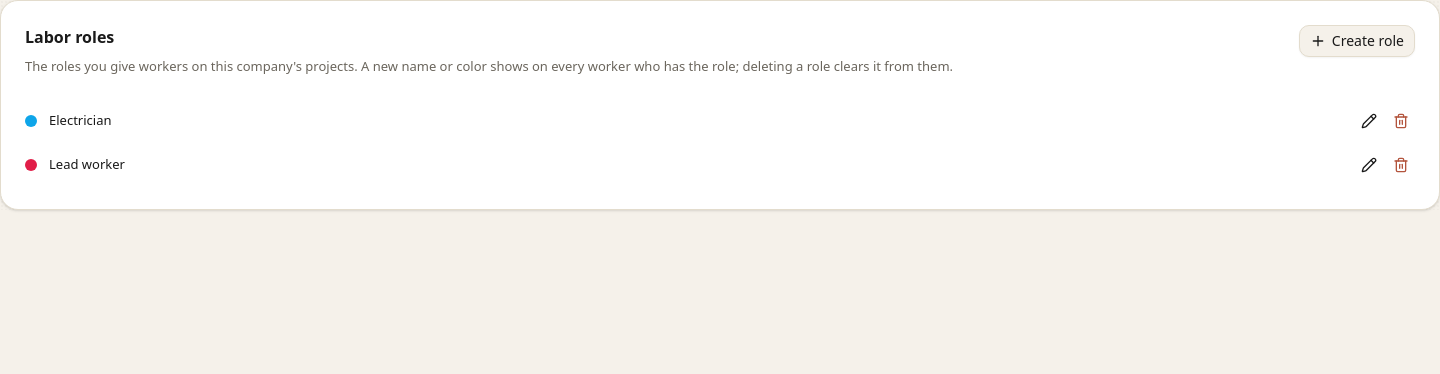
Test: CompanyLaborRolesCard › drops a role someone else already deleted when saving it
Check: the text "Electrician" is shown, box [49,111,112,129]
Click the button named "Edit Electrician".
click(1369, 120)  # box [1355,106,1383,134]
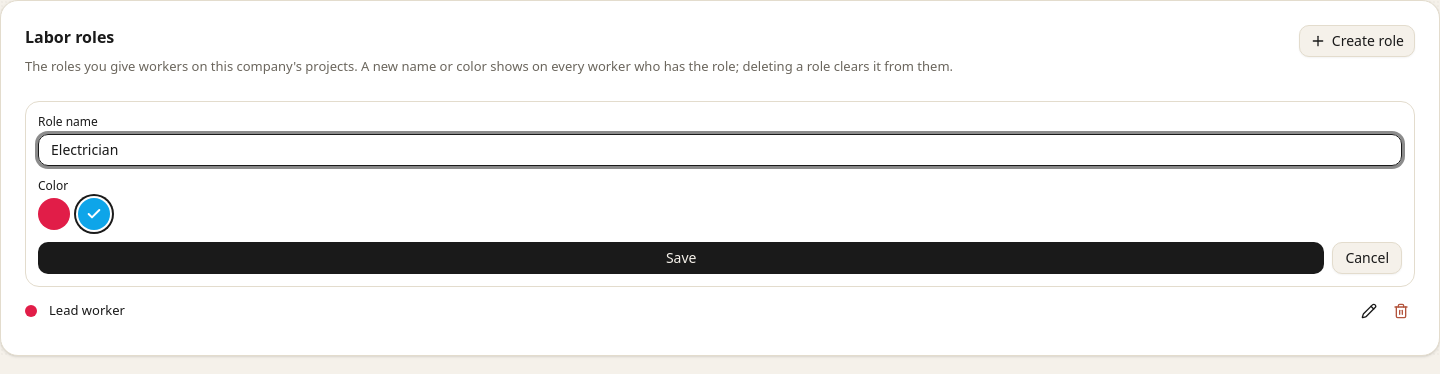
Replace the text in the field labelled "Role name" with "Plumber" at (720, 150), box [38,134,1402,166]
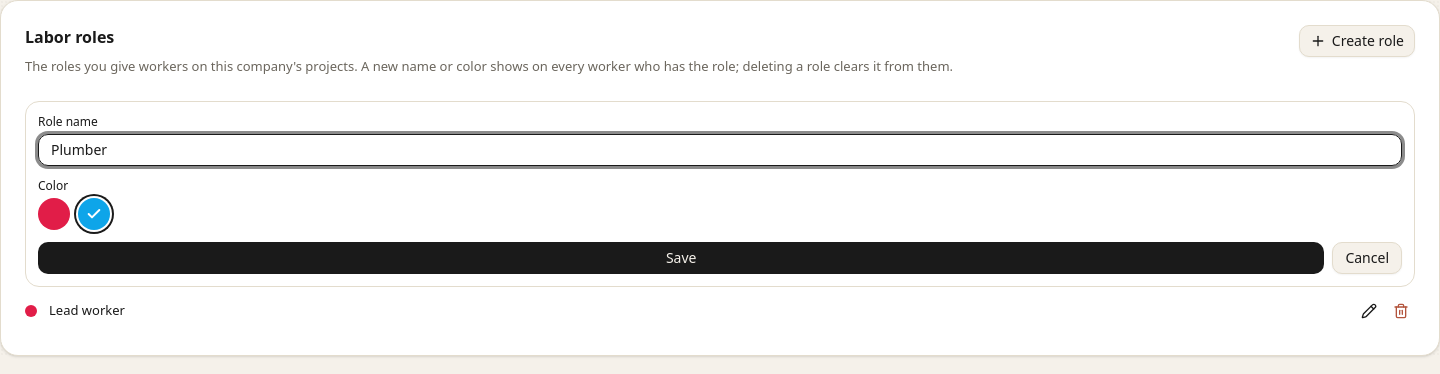
Click the button "Save".
click(681, 258)  # box [38,242,1324,274]
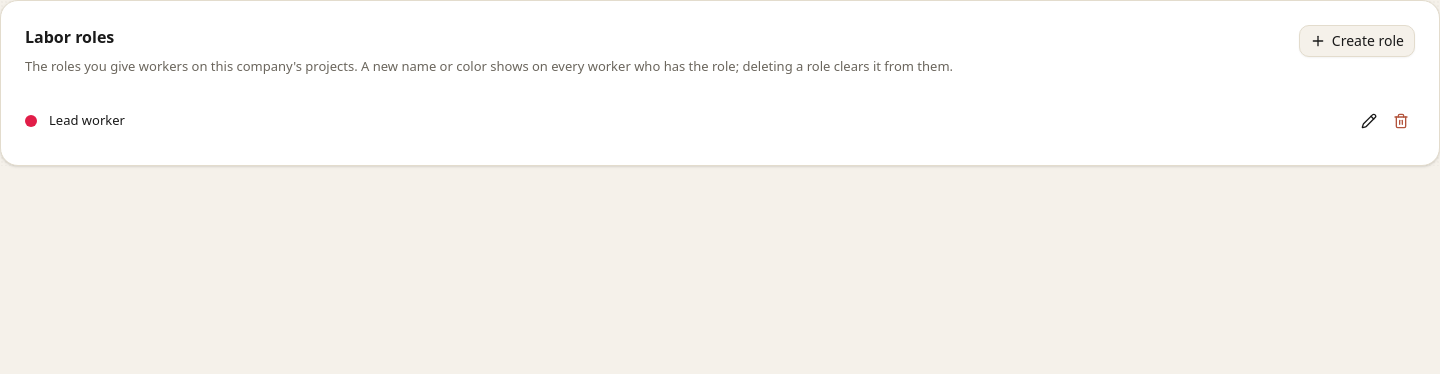
Check: the text "Electrician" is not shown
Check: the label labelled "Role name" is gone
